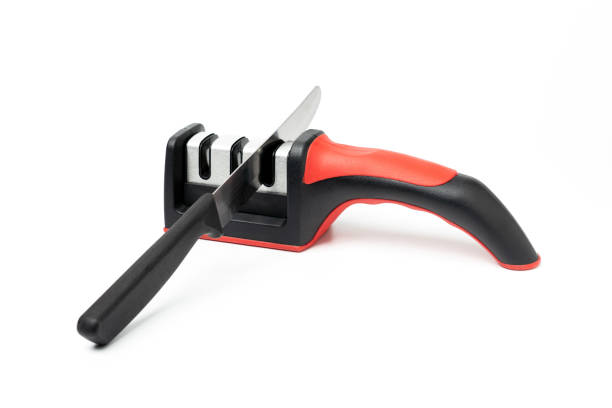knife: (75, 84, 323, 350)
